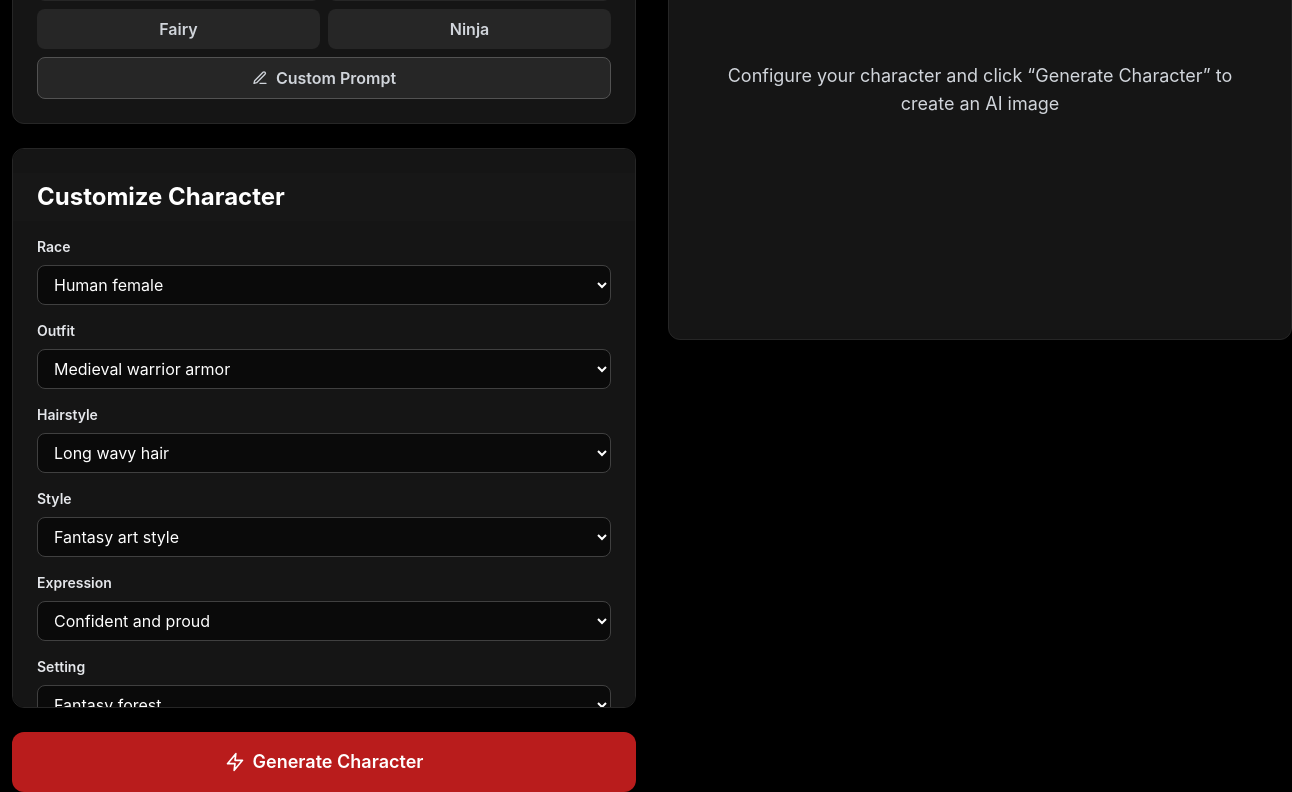
Test: CharacterCustomizer › loading state shows spinner and disables the generate button
(page scrolled)
Step 1. Click the button "Generate Character" → (324, 762), box [12,732,636,791]
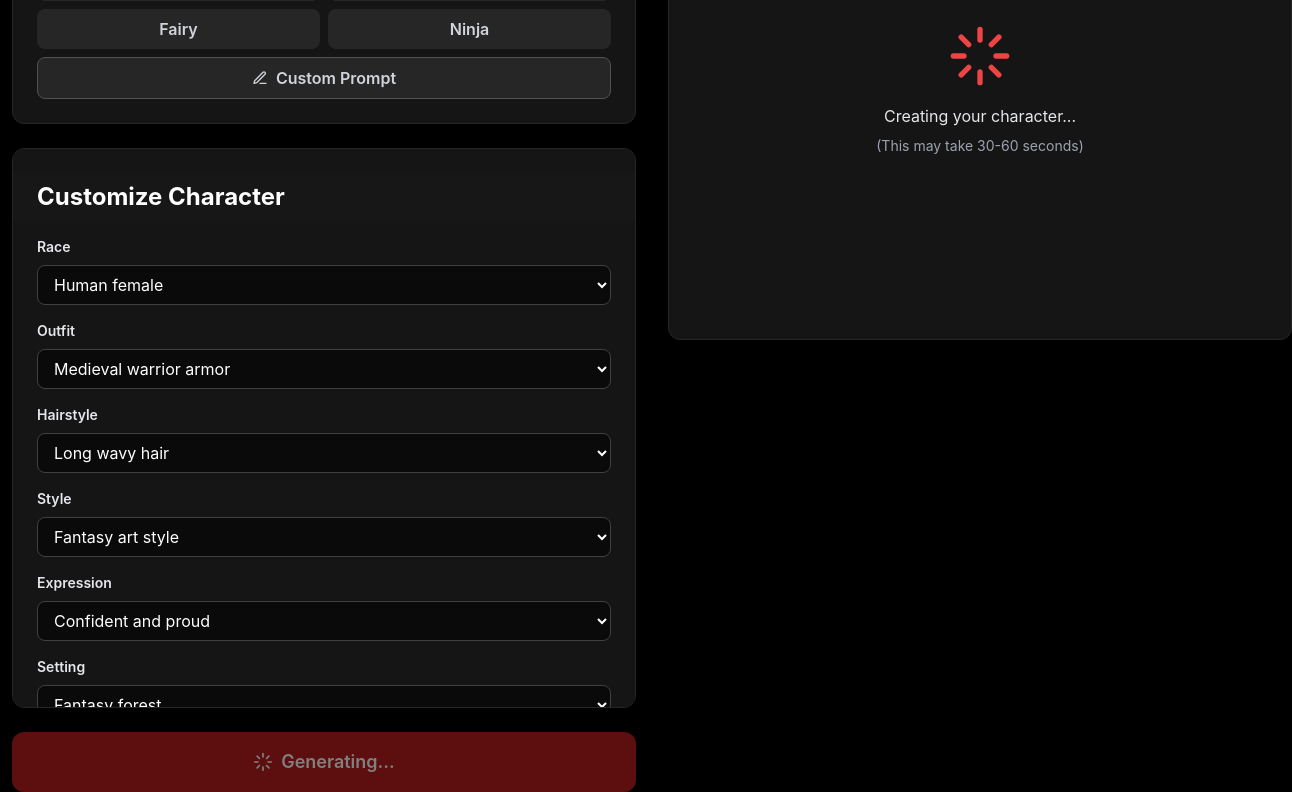
Expected: the button "Generating..." is disabled, [12,732,636,791]
